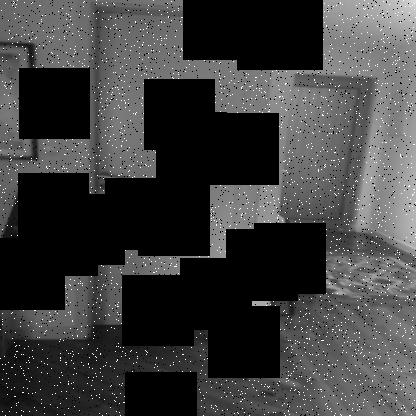Porte: (71, 1, 280, 345)
